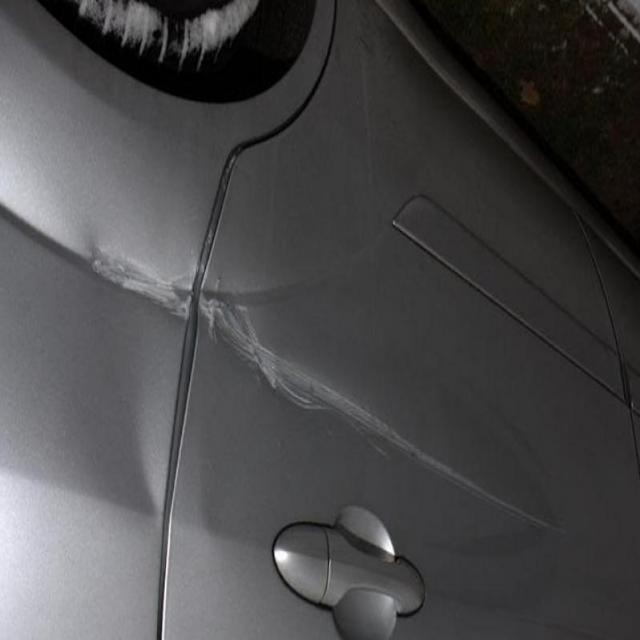scratch: (40, 204, 393, 471)
